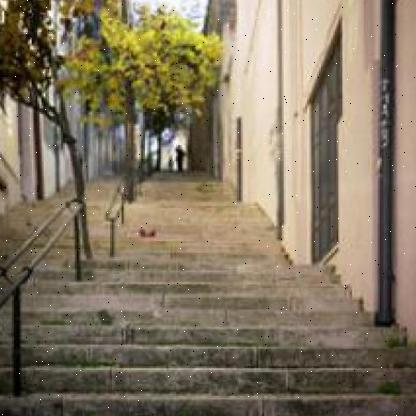stair_up: (1, 214, 411, 395)
